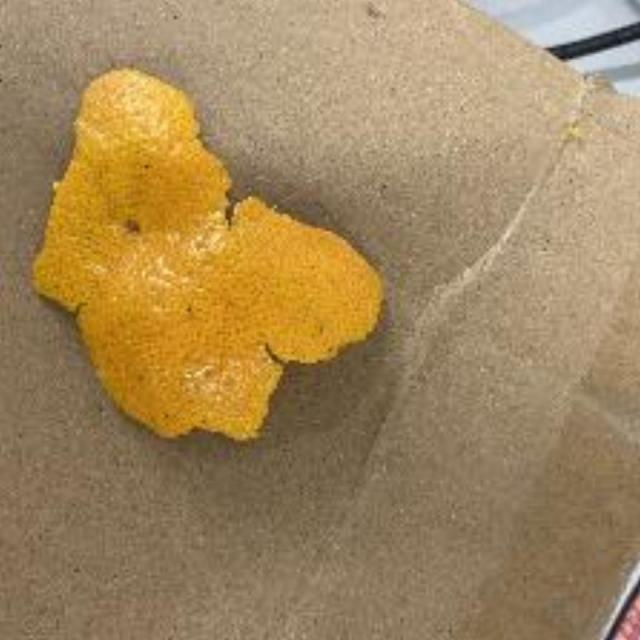orange peel: (40, 70, 398, 446)
